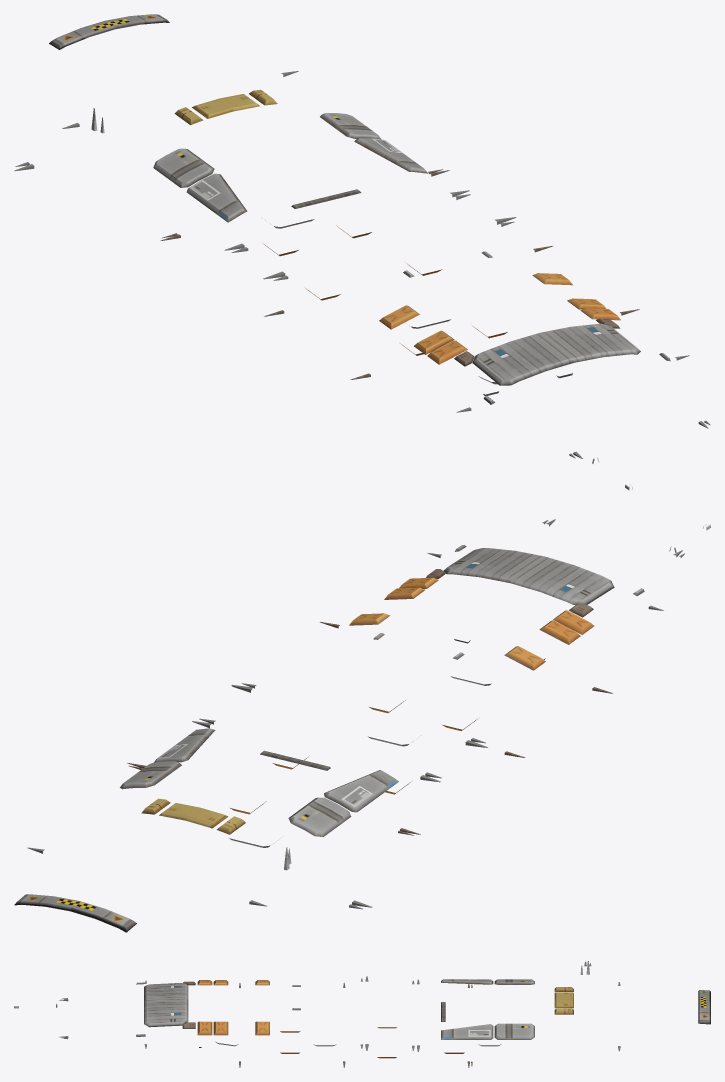
The model's file is hgn_cf_frei_02_t1.glb.
3 renders of one model, top to bottom at view 1: azimuth 30°, elevation 25°; view 2: azimuth 150°, elevation 25°; view 3: azimuth 270°, elevation 25°, orthographic. The views are drawn at different scales.
Visible parts, largest first — view 1: hgn_freighter_02_LOD0; view 2: hgn_freighter_02_LOD0; view 3: hgn_freighter_02_LOD0.
Boxes of the visible parts, box(x1,y1,x2,y2) form: hgn_freighter_02_LOD0: box(14, 14, 710, 490); hgn_freighter_02_LOD0: box(14, 519, 710, 932); hgn_freighter_02_LOD0: box(14, 961, 710, 1067).
Size of what is drawn, in the model's own units: 4.91 by 1.09 by 14.53.
Materials: 1 (1 with a texture image).
